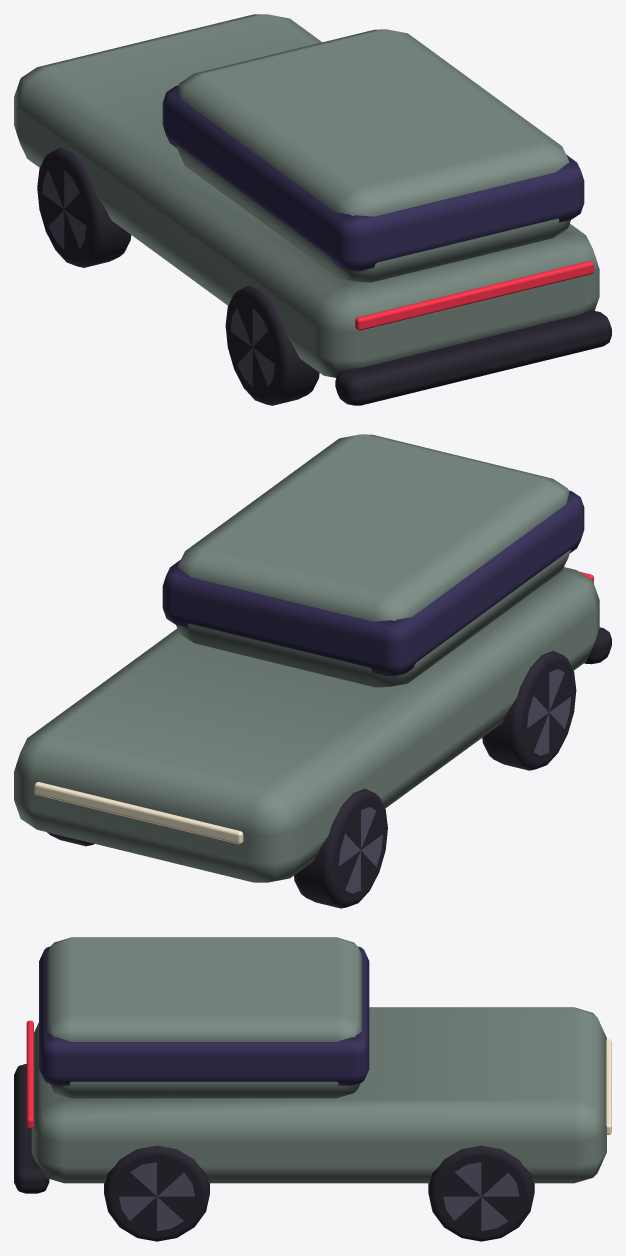
The model's file is hatch.glb.
3 views of the same model, one above another, from view 1: azimuth 30°, elevation 25°; view 2: azimuth 150°, elevation 25°; view 3: azimuth 270°, elevation 25° (orthographic). The views are drawn at different scales.
Visible parts, largest first — view 1: body, glass, wheel_rl_mesh, wheel_fl_mesh, lights; view 2: body, glass, wheel_fl_mesh, wheel_rl_mesh, lights; view 3: body, glass, wheel_fr_mesh, wheel_rr_mesh, lights.
Part boxes in pixels (x1,y1,x2,y2): body: (14, 14, 611, 405); glass: (162, 85, 584, 270); wheel_rl_mesh: (225, 286, 319, 405); wheel_fl_mesh: (37, 148, 131, 267); lights: (355, 261, 593, 330); body: (14, 434, 611, 882); glass: (162, 490, 584, 675); wheel_fl_mesh: (294, 788, 387, 908); wheel_rl_mesh: (482, 650, 576, 770); lights: (34, 571, 593, 844); body: (14, 937, 606, 1193); glass: (39, 946, 369, 1085); wheel_fr_mesh: (428, 1145, 534, 1241); wheel_rr_mesh: (104, 1145, 209, 1241); lights: (26, 1020, 611, 1134).
Bounding box in the file's own units: 2 × 1.54 × 4.05.
